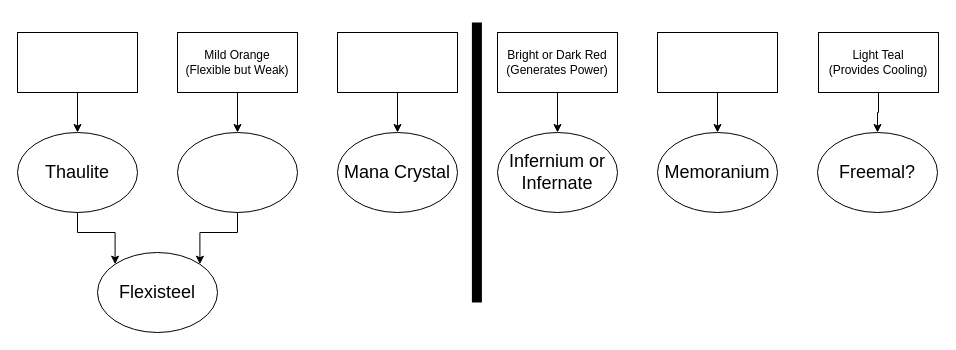
This 956x350 diagram has some shape labels left out. The shapes that lost their labels are listed below. From the top down, each one's centre as x and y in pixels, then its label:
At point 77,62: "Grey (Normal Metal)".
At point 397,62: "Light Blue (Tough but Powerful, Generates Power)".
At point 717,62: "Purple/Lavender (Adds Memory/Craft)".
At point 237,172: "Rubrese".
